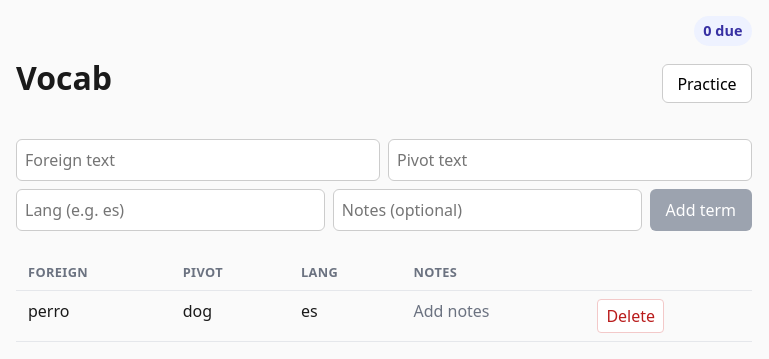
Test case: Vocab screen › edits notes inline and shows the saved value
The image size is (769, 359).
Click the button "Add notes" at (451, 311), box [413,299,490,323]
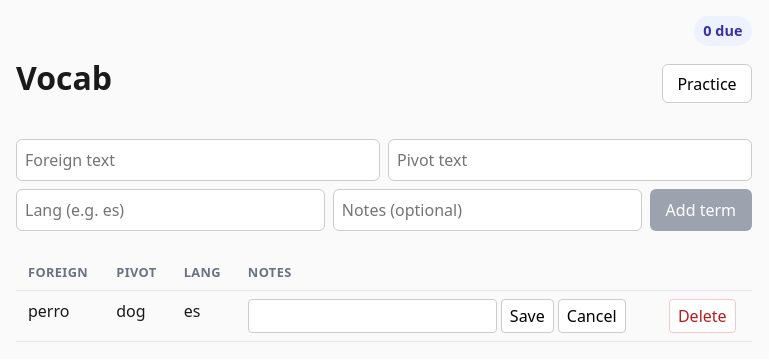
Type "el perro" into the field named "notes for perro" at (372, 316), box [248,299,497,333]
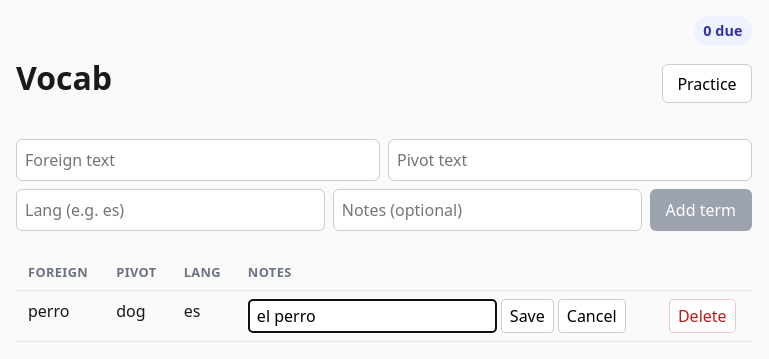
Click the button "Save" at (527, 316), box [501,299,554,333]
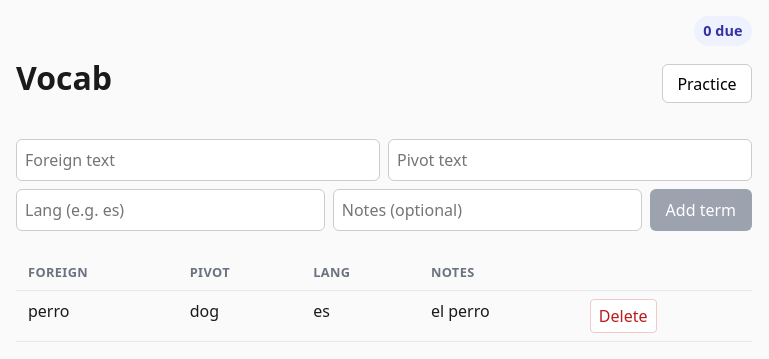
Expected: the button "el perro" is shown, [431,299,490,323]
